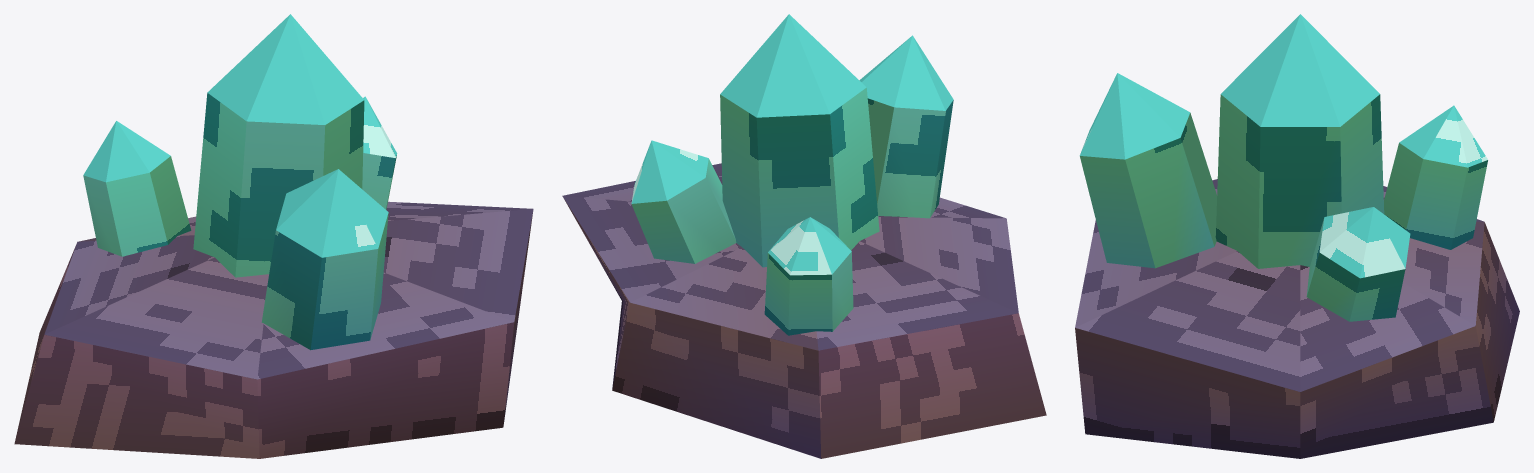
The model's file is alien.crystal__small.glb.
The picture shows the model from 3 angles, left to right: view 1: azimuth 30°, elevation 25°; view 2: azimuth 150°, elevation 25°; view 3: azimuth 270°, elevation 25°; orthographic projection. The views are drawn at different scales.
Parts seen in each view (by area): view 1: kit_foot, kit_crystal_0, kit_crystal_3, kit_crystal_2, kit_crystal_1; view 2: kit_foot, kit_crystal_0, kit_crystal_3, kit_crystal_1, kit_crystal_2; view 3: kit_foot, kit_crystal_0, kit_crystal_3, kit_crystal_2, kit_crystal_1.
Boxes of the visible parts, bbox=[...] form: kit_foot: bbox=[14, 201, 533, 458]; kit_crystal_0: bbox=[193, 14, 364, 277]; kit_crystal_3: bbox=[261, 169, 388, 350]; kit_crystal_2: bbox=[83, 121, 191, 256]; kit_crystal_1: bbox=[362, 96, 397, 209]; kit_foot: bbox=[562, 163, 1046, 458]; kit_crystal_0: bbox=[720, 14, 879, 267]; kit_crystal_3: bbox=[859, 35, 953, 218]; kit_crystal_1: bbox=[631, 140, 736, 263]; kit_crystal_2: bbox=[764, 217, 853, 335]; kit_foot: bbox=[1075, 179, 1519, 458]; kit_crystal_0: bbox=[1215, 14, 1384, 268]; kit_crystal_3: bbox=[1079, 73, 1216, 268]; kit_crystal_2: bbox=[1384, 105, 1487, 249]; kit_crystal_1: bbox=[1306, 207, 1410, 321].
Bounding box in the file's own units: 1.68 × 1.12 × 1.23.
Materials: 3 (3 with a texture image).
